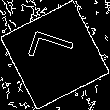L_E: (26, 33, 84, 77)
